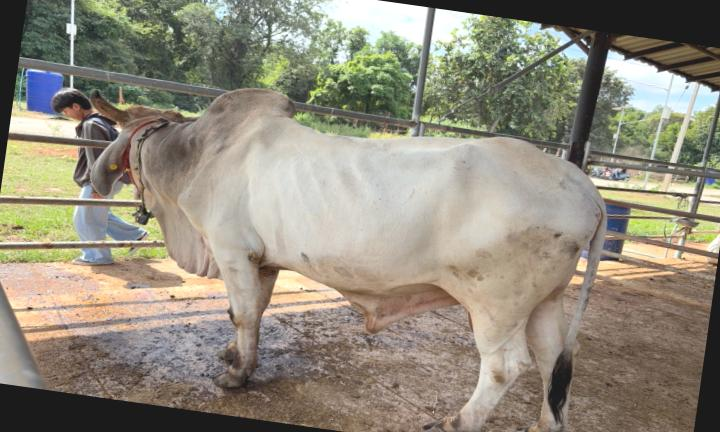Brahman: (91, 89, 608, 432)
